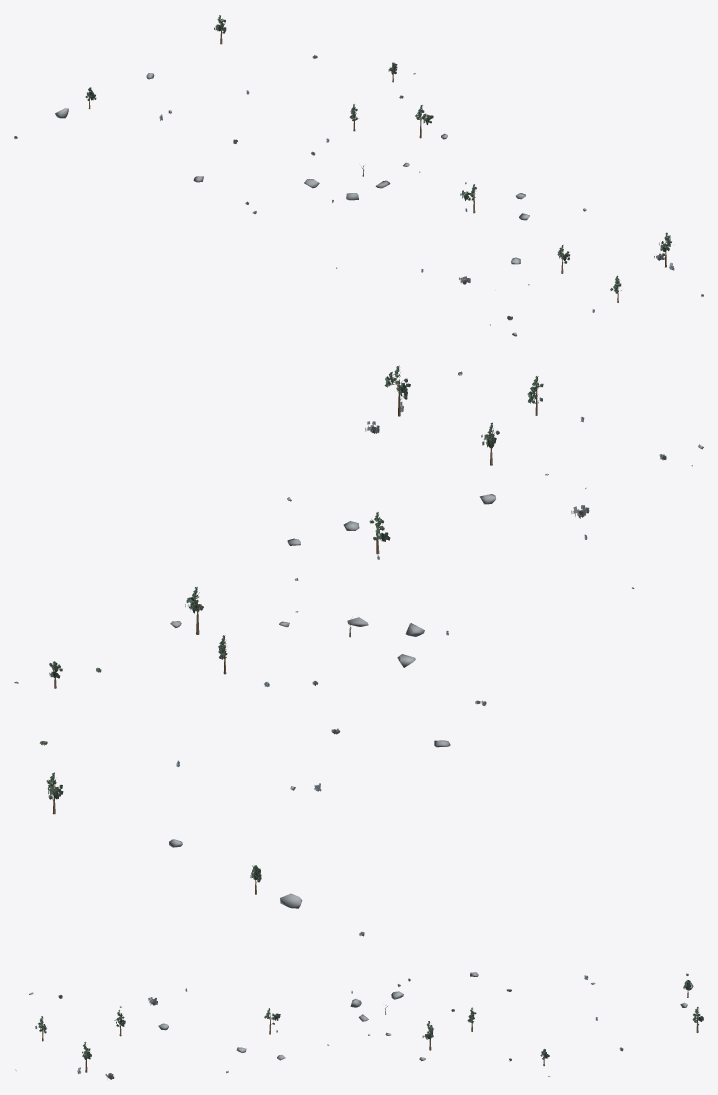
The model's file is frost_land_scatter_c18_12.glb.
3 views of the same model, one above another, from view 1: azimuth 30°, elevation 25°; view 2: azimuth 150°, elevation 25°; view 3: azimuth 270°, elevation 25° (orthographic). The views are drawn at different scales.
Parts seen in each view (by area): view 1: frost_land_scatter_c18_12; view 2: frost_land_scatter_c18_12; view 3: frost_land_scatter_c18_12.
Part boxes in pixels (x1,y1,x2,y2): frost_land_scatter_c18_12: [14, 15, 703, 336]; frost_land_scatter_c18_12: [14, 365, 703, 936]; frost_land_scatter_c18_12: [15, 972, 703, 1079].
Bounding box in the file's own units: 122 × 28.05 × 252.
